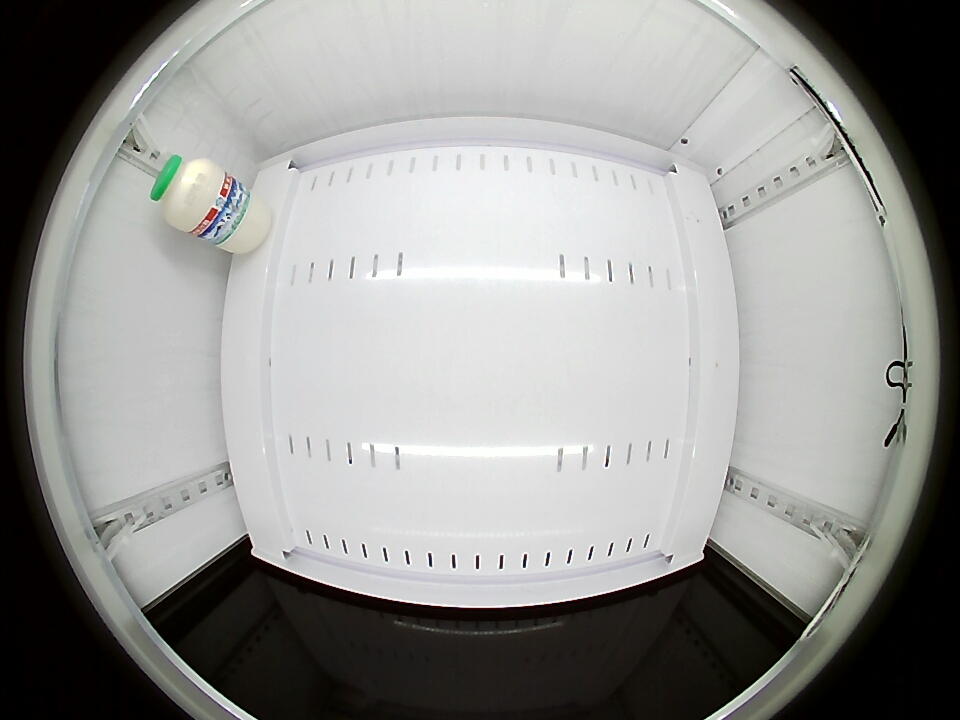liziyuan: (149, 154, 229, 236)
